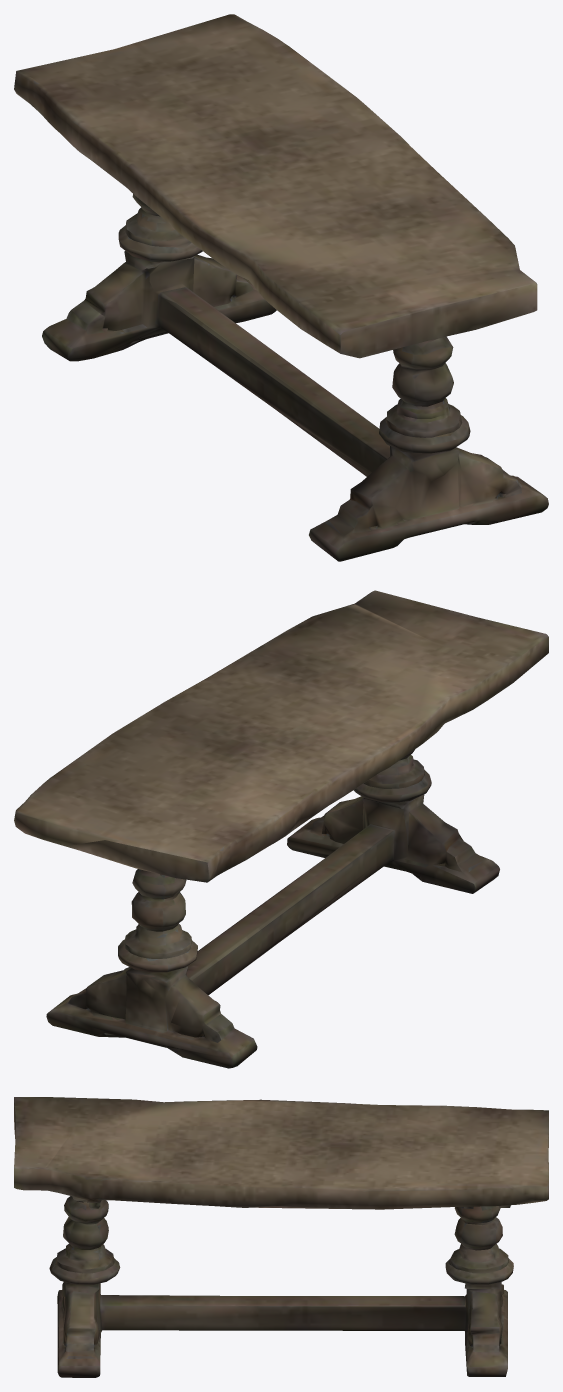
File: ornate-wood-banquet-table-v001.glb
3 views of the same model, one above another, from view 1: azimuth 30°, elevation 25°; view 2: azimuth 150°, elevation 25°; view 3: azimuth 270°, elevation 25° (orthographic). The views are drawn at different scales.
Parts seen in each view (by area): view 1: ornate-wood-banquet-table; view 2: ornate-wood-banquet-table; view 3: ornate-wood-banquet-table.
Boxes of the visible parts, <box> form: ornate-wood-banquet-table: <box>14,14,548,561</box>; ornate-wood-banquet-table: <box>14,590,548,1068</box>; ornate-wood-banquet-table: <box>14,1097,548,1377</box>.
Size of the model in its own units: 0.7728 by 0.757 by 1.85.
Materials: 1 (1 with a texture image).
